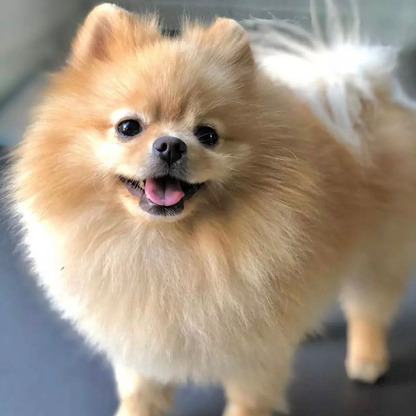Pomeranian: (36, 13, 400, 384)
